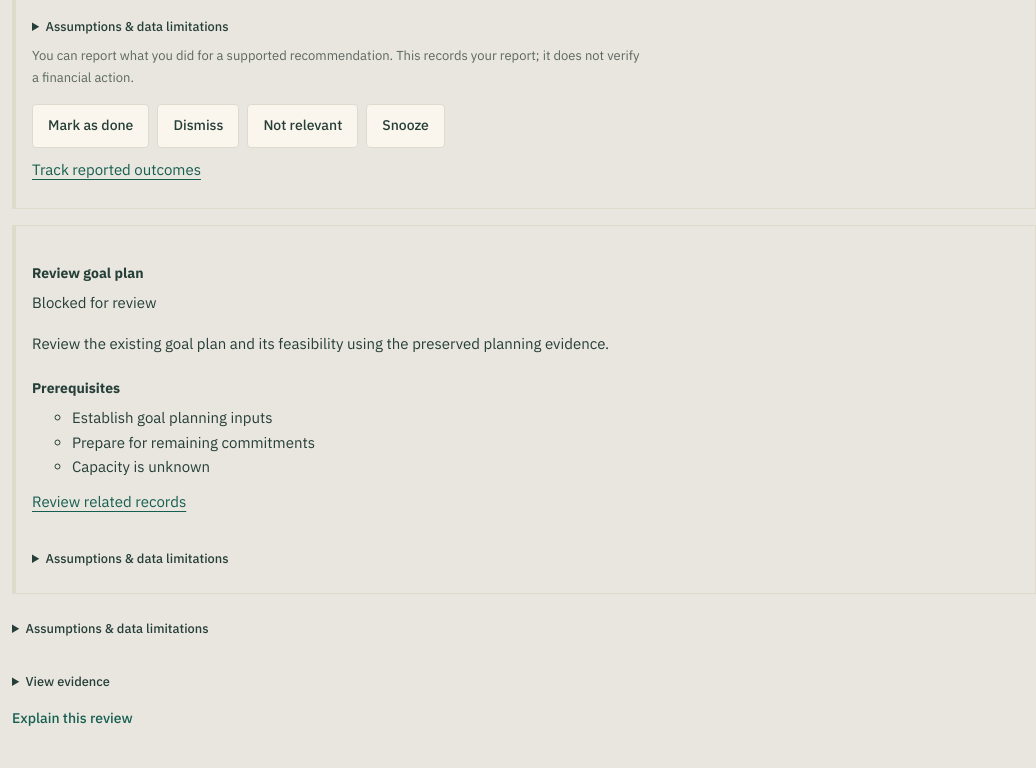
checks canonical context before showing explanation (changed=false)
(page scrolled)
Click the button "Explain this review": (72, 718) [12,700,133,736]
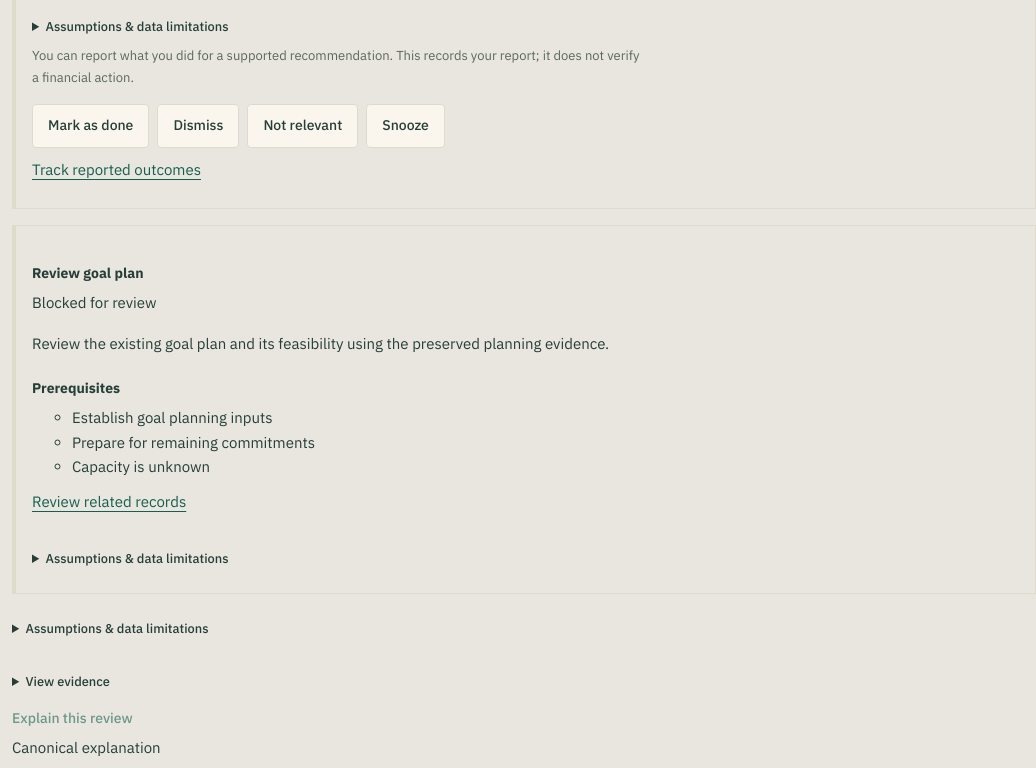
Now the text "Canonical explanation" is shown, box [12,738,161,758]
